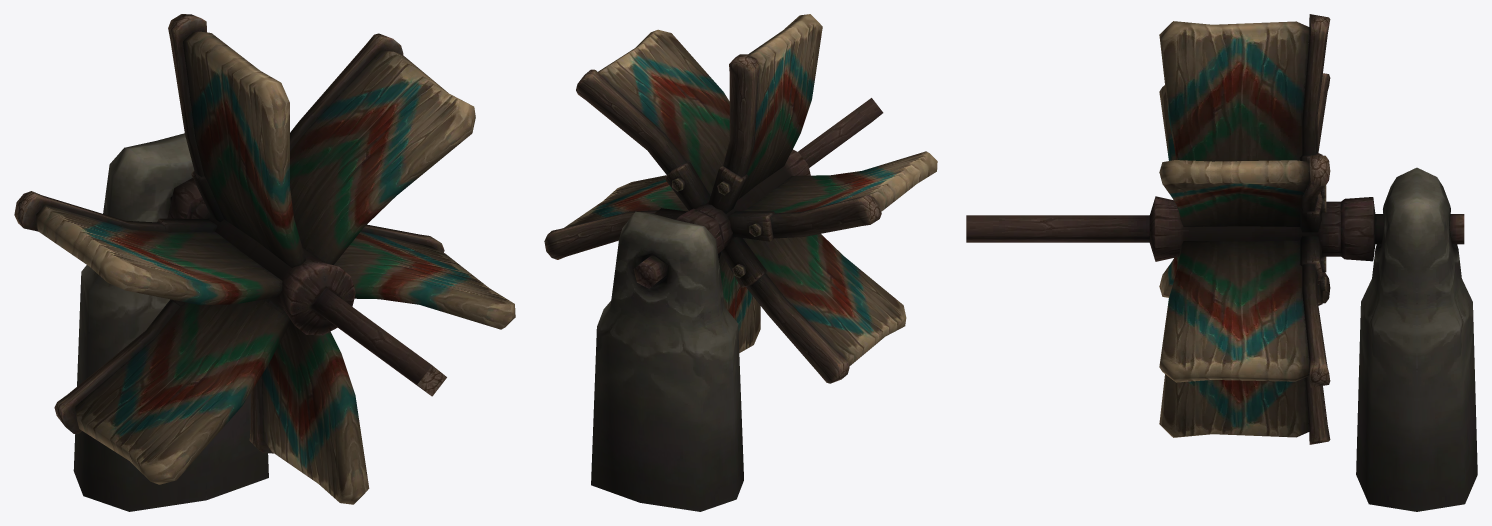
3 renders of one model, left to right at view 1: azimuth 30°, elevation 25°; view 2: azimuth 150°, elevation 25°; view 3: azimuth 270°, elevation 25°, orthographic. The views are drawn at different scales.
Size of the model in its own units: 32.78 by 37.89 by 39.77.
1 material, 1 textured.
